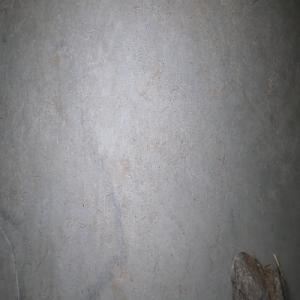Rock: (230, 251, 285, 300)
